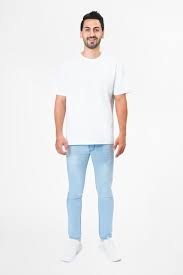face: (81, 22, 105, 50)
